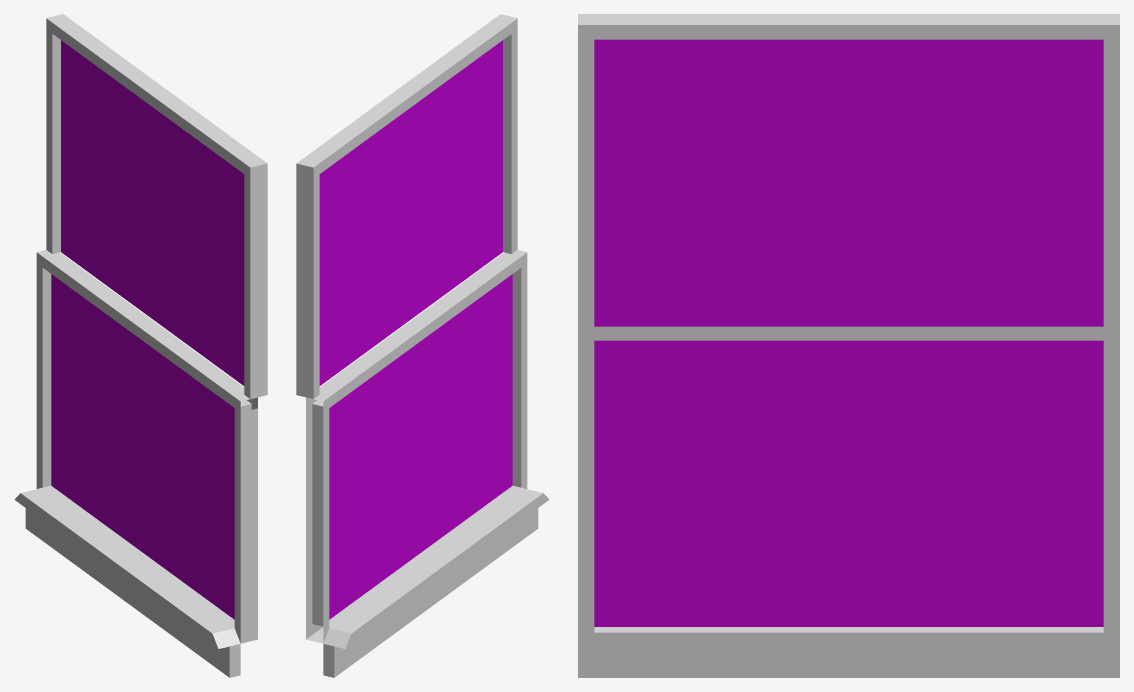
The model's file is BathroomWindow.fbx.
3 renders of one model, left to right at view 1: azimuth 30°, elevation 25°; view 2: azimuth 150°, elevation 25°; view 3: azimuth 270°, elevation 25°, orthographic. The views are drawn at different scales.
Visible parts, largest first — view 1: SceneYBathroom.001; view 2: SceneYBathroom.001; view 3: SceneYBathroom.001.
Part boxes in pixels (x1,y1,x2,y2): SceneYBathroom.001: (14, 14, 267, 677); SceneYBathroom.001: (296, 14, 549, 677); SceneYBathroom.001: (578, 14, 1119, 677).
Bounding box in the file's own units: 14.7 × 145 × 106.
